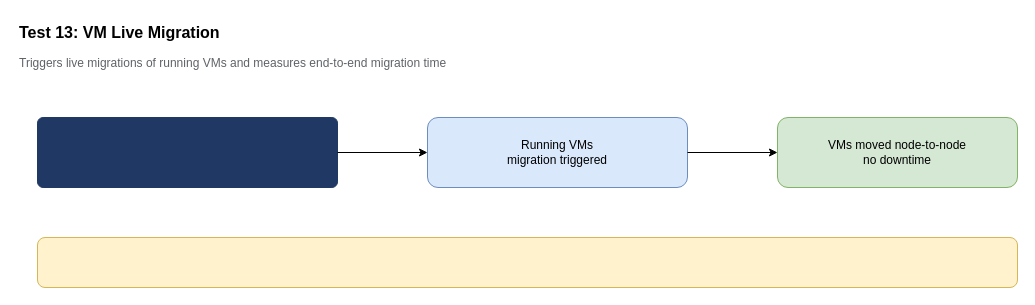
Image size: 1035x305. Some labels were removed from this diagram. The shapes that lost their labels are listed below. From the top down, each one's centre as x and y in pixels, then its label:
At (x=187, y=152): "kube-burner Job (quay.io/kube-burner/kube-burner:v2.6.1)".
At (x=527, y=262): "📊 Measures: Migration duration · Downtime · Memory copy rate".
